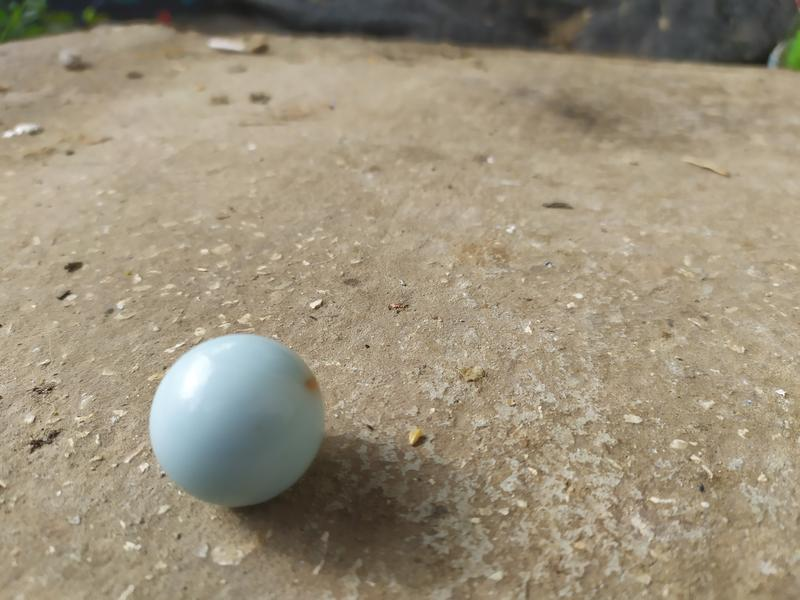Warning: (144, 329, 330, 511)
